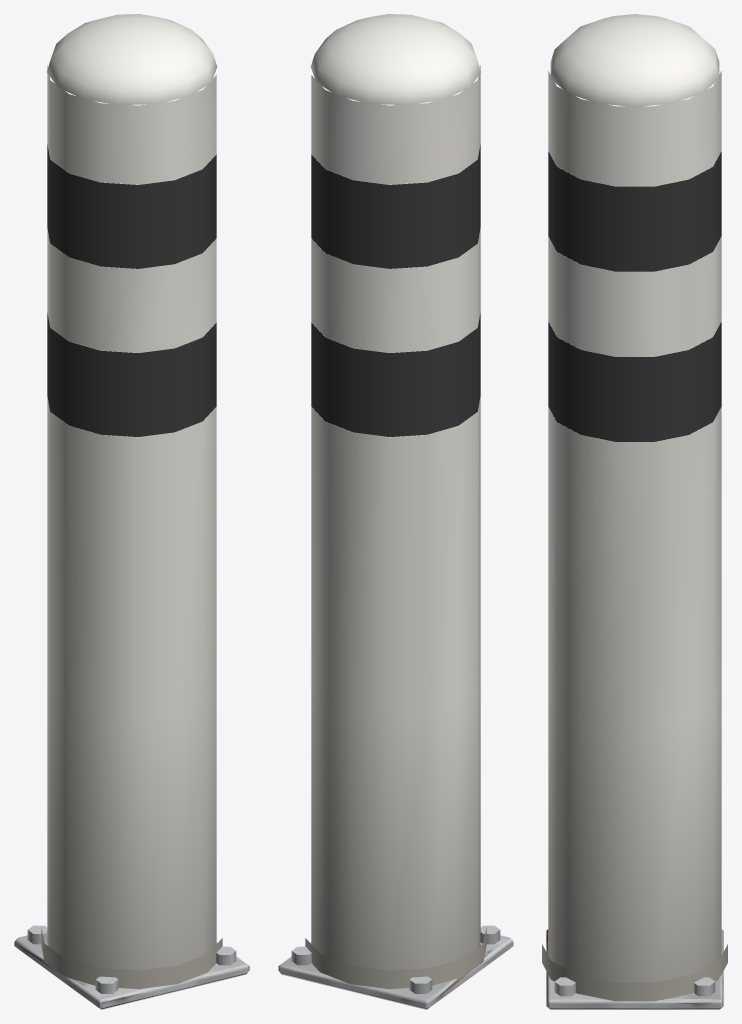
The model's file is bollard_post.glb.
3 renders of one model, left to right at view 1: azimuth 30°, elevation 25°; view 2: azimuth 150°, elevation 25°; view 3: azimuth 270°, elevation 25°, orthographic.
Parts seen in each view (by area): view 1: bollard_post; view 2: bollard_post; view 3: bollard_post.
Part boxes in pixels (x1,y1,x2,y2): bollard_post: (14,14,249,1009); bollard_post: (278,14,513,1009); bollard_post: (542,14,727,1009).
Size of the model in its own units: 0.1735 by 1 by 0.178.
Materials: 2 (2 with a texture image).
